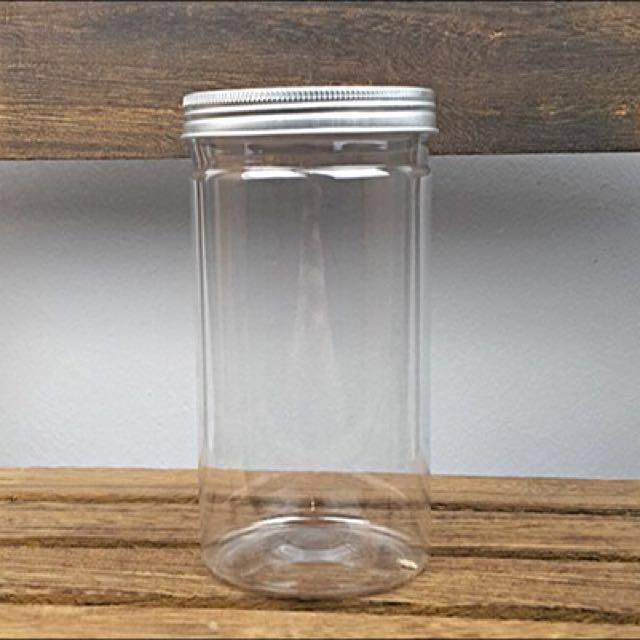plastic: (184, 84, 440, 599)
